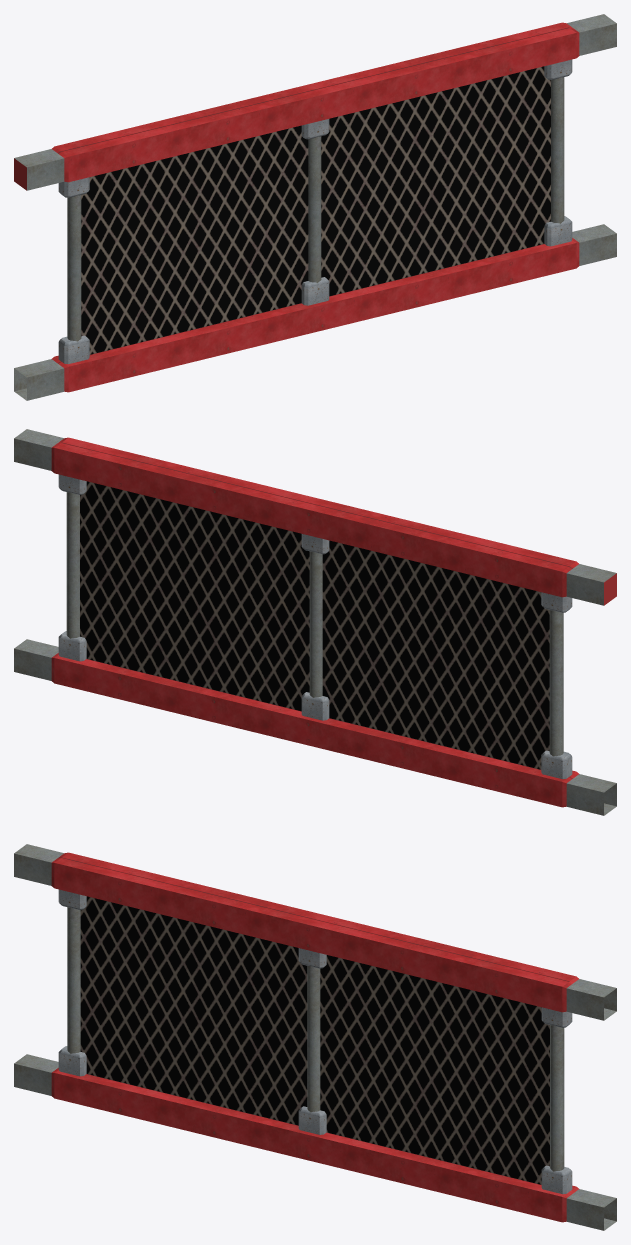
The model's file is Ob_ScafHorizSmall_RC.fbx.
3 renders of one model, top to bottom at view 1: azimuth 30°, elevation 25°; view 2: azimuth 150°, elevation 25°; view 3: azimuth 330°, elevation 25°, orthographic.
Visible parts, largest first — view 1: Ob_ScafHorizSmall_RC; view 2: Ob_ScafHorizSmall_RC; view 3: Ob_ScafHorizSmall_RC.
Boxes of the visible parts, x1,y1,x2,y2 form: Ob_ScafHorizSmall_RC: (14, 14, 616, 400); Ob_ScafHorizSmall_RC: (14, 429, 616, 815); Ob_ScafHorizSmall_RC: (14, 844, 616, 1230).
Size of the model in its own units: 1587 by 606 by 65.72.
